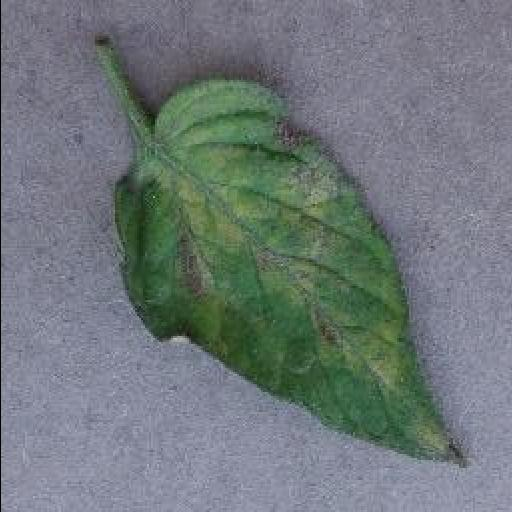disease_tomato: (112, 79, 472, 467)
